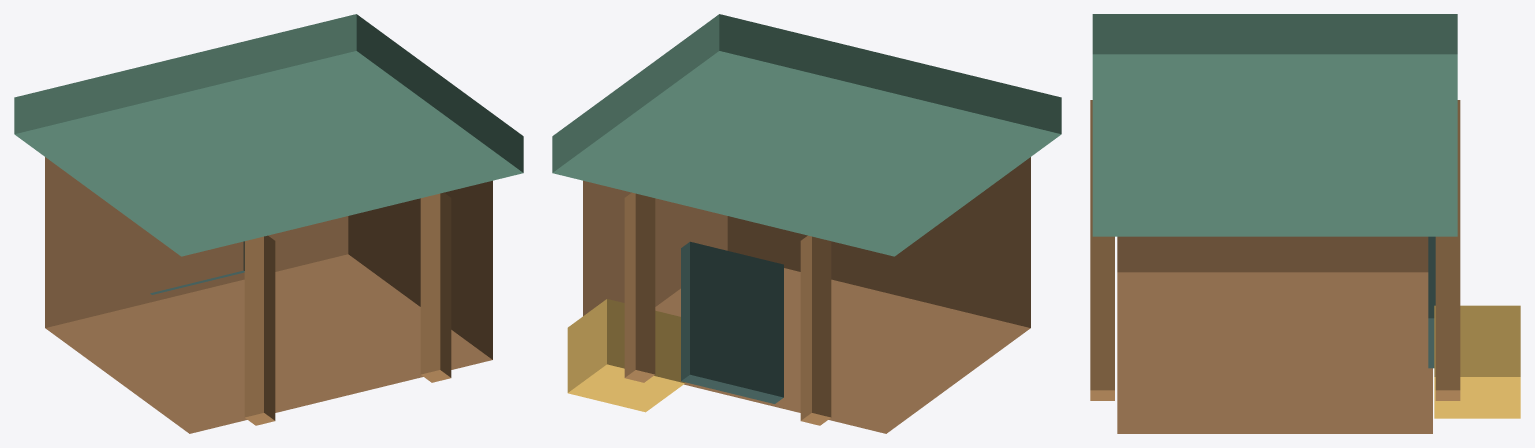
The model's file is building_storage.glb.
3 renders of one model, left to right at view 1: azimuth 30°, elevation 25°; view 2: azimuth 150°, elevation 25°; view 3: azimuth 270°, elevation 25°, orthographic. The views are drawn at different scales.
Visible parts, largest first — view 1: roof, shed, band_-0.45_0.7, band_0.45_0.7; view 2: roof, shed, door, crate, band_-0.45_-0.7, band_0.45_-0.7; view 3: roof, shed, crate, band_0.45_-0.7, band_0.45_0.7, door.
Part boxes in pixels (x1,y1,x2,y2): roof: [14, 14, 523, 256]; shed: [45, 157, 492, 433]; band_-0.45_0.7: [244, 235, 275, 425]; band_0.45_0.7: [420, 192, 451, 382]; roof: [552, 14, 1061, 256]; shed: [583, 157, 1030, 433]; door: [681, 241, 783, 403]; crate: [567, 299, 685, 412]; band_-0.45_-0.7: [800, 235, 831, 425]; band_0.45_-0.7: [624, 192, 655, 382]; roof: [1092, 14, 1457, 236]; shed: [1117, 236, 1432, 433]; crate: [1434, 305, 1520, 418]; band_0.45_-0.7: [1435, 193, 1460, 400]; band_0.45_0.7: [1090, 193, 1114, 400]; door: [1428, 236, 1435, 368].
Bounding box in the file's own units: 1.75 × 1.11 × 1.75.
